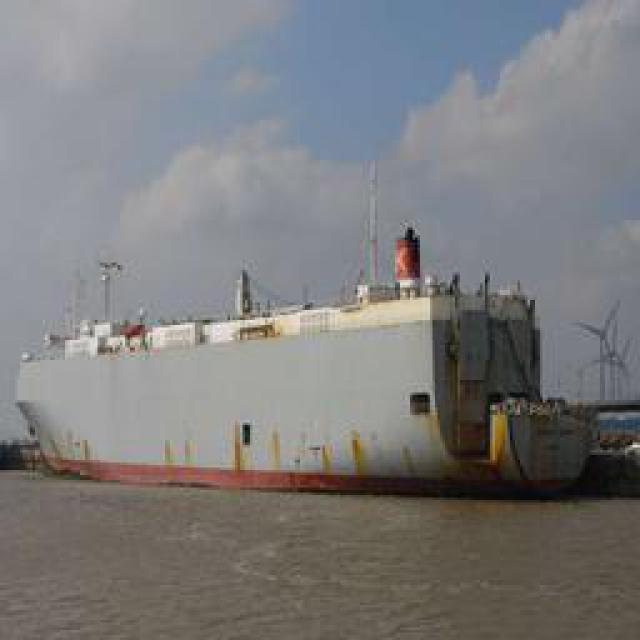Ship: (15, 280, 600, 495)
